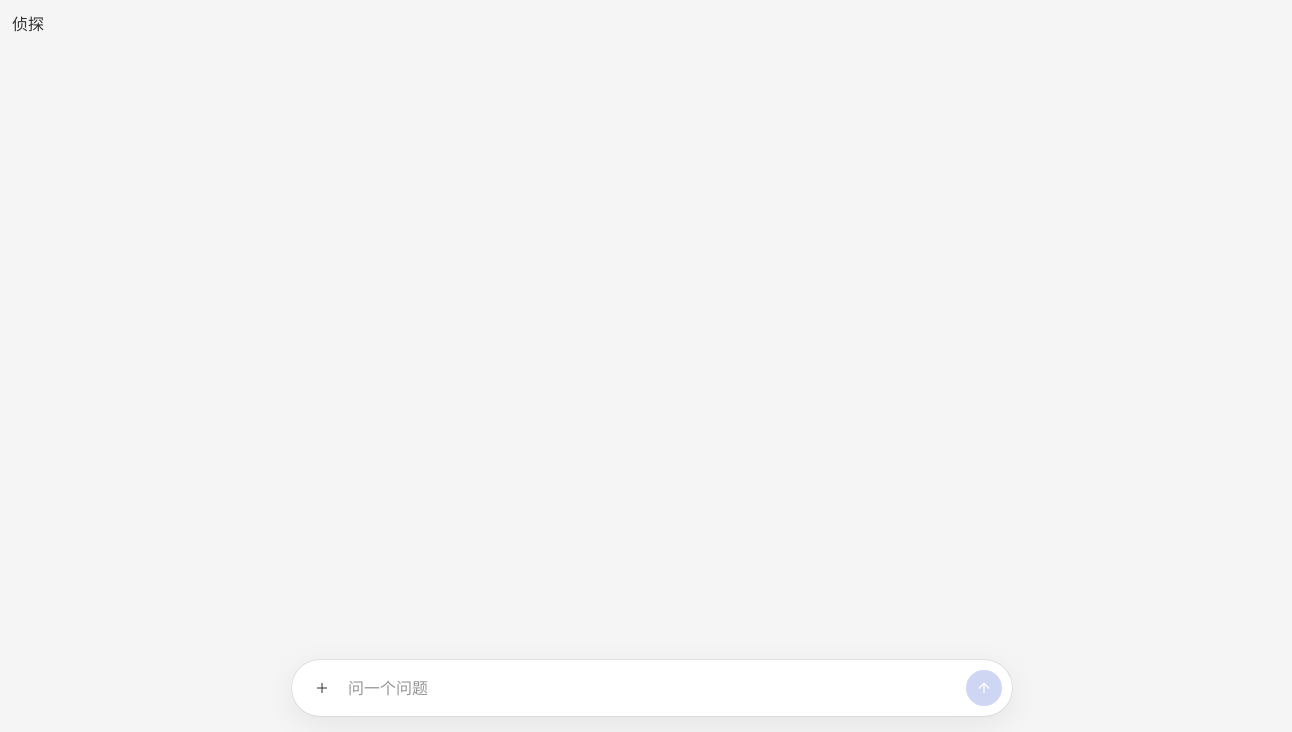
Scenario: 侦探过程 › 依次显示两轮步骤、结论与出处，并带上已确认画像
The width and height of the screenshot is (1292, 732).
Type "这周末有哪些线上黑客松？" into the text box named "问侦探".
click(653, 688); type("这周末有哪些线上黑客松？")  # box x1=348 y1=670 x2=958 y2=706
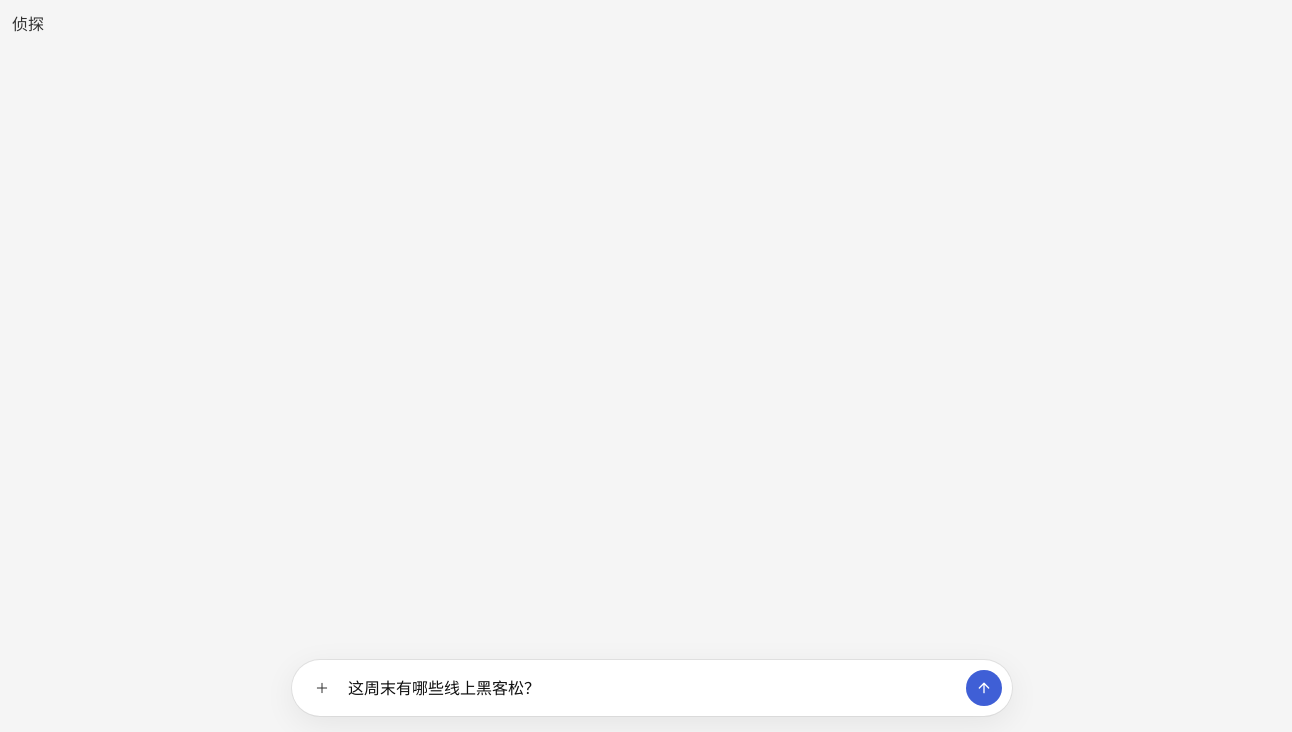
Submit the form named "查证", box x1=292 y1=660 x2=1012 y2=716
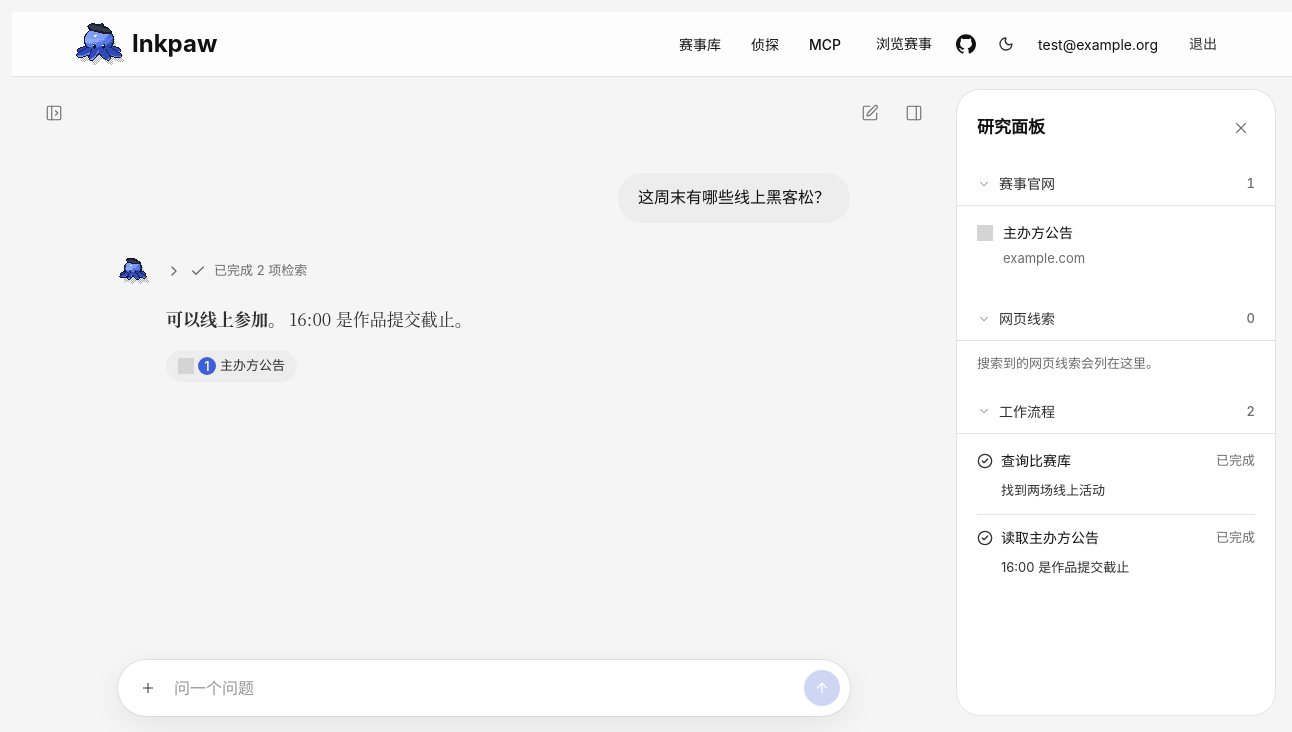
Now the text "可以线上参加。" is shown, box x1=166 y1=306 x2=285 y2=331
